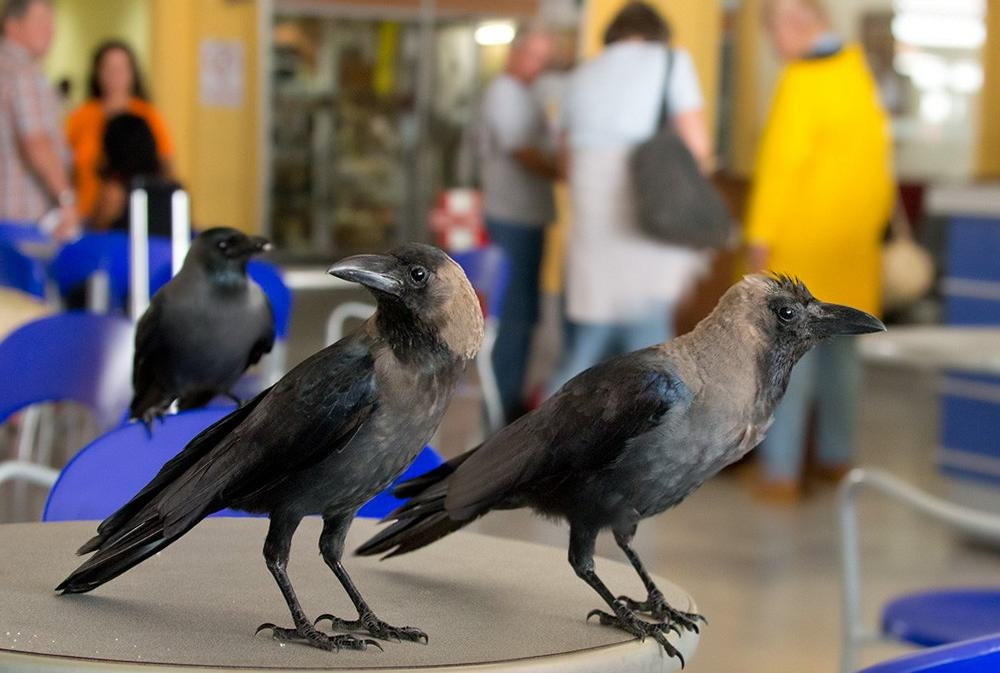crow: (390, 270, 908, 646), (157, 225, 502, 653), (135, 198, 278, 437)
